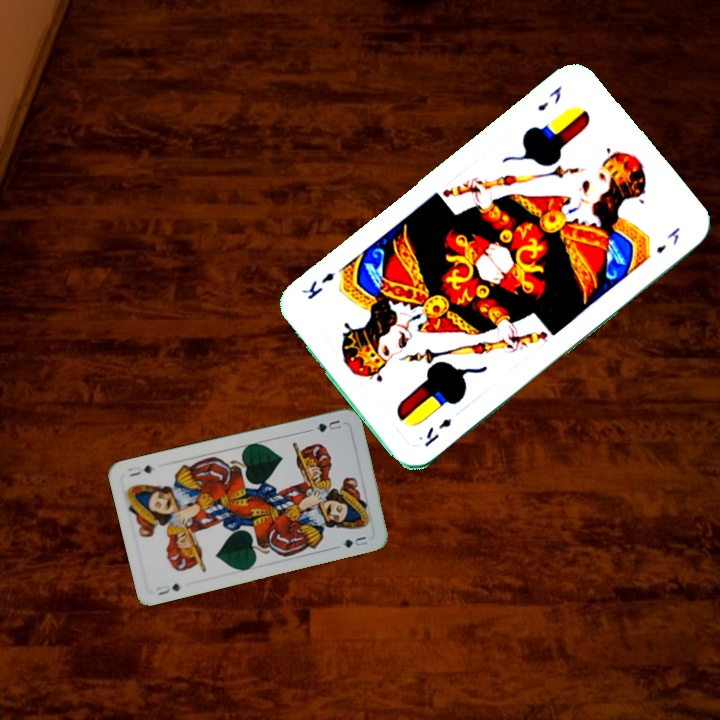EK: (420, 414, 455, 449), (533, 82, 565, 114)
GU: (306, 416, 344, 435), (152, 579, 183, 598)
